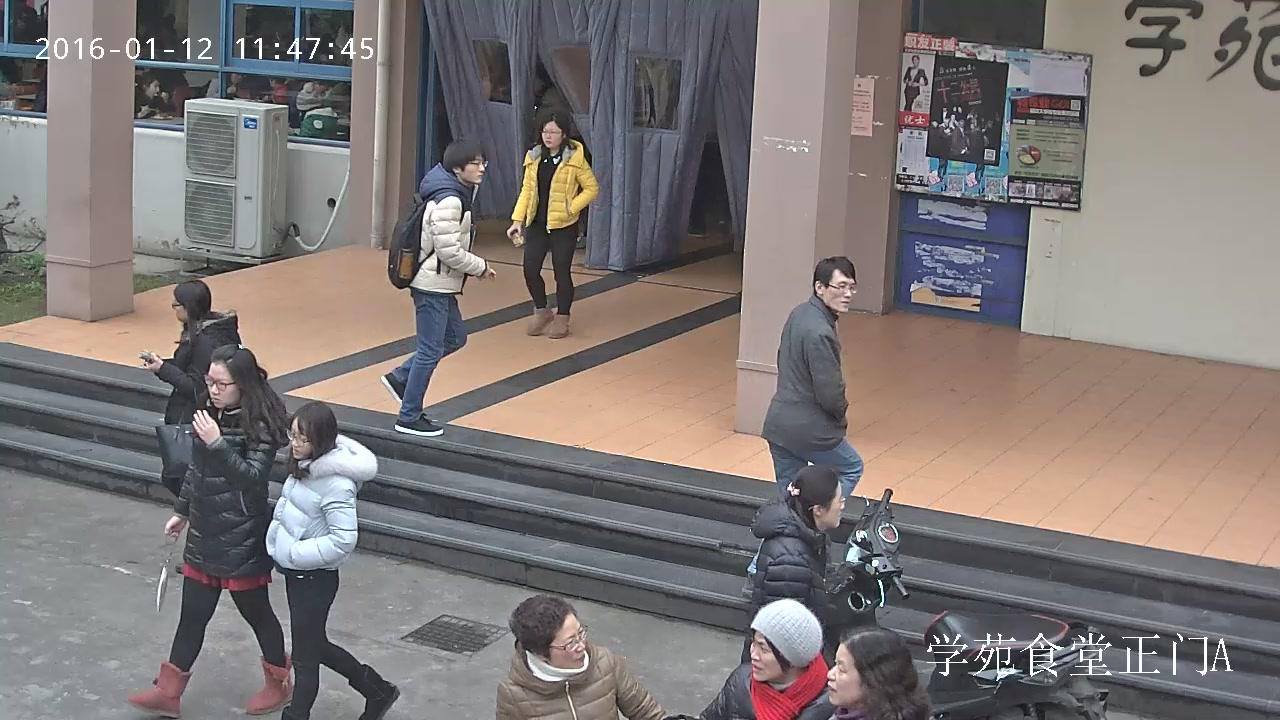person: (126, 343, 294, 719), (264, 401, 400, 720), (745, 256, 864, 595), (379, 137, 498, 437), (137, 279, 243, 502), (495, 594, 673, 720), (505, 111, 600, 339), (741, 464, 846, 665), (683, 596, 849, 720), (295, 81, 337, 140), (133, 71, 174, 118), (902, 54, 928, 112)
